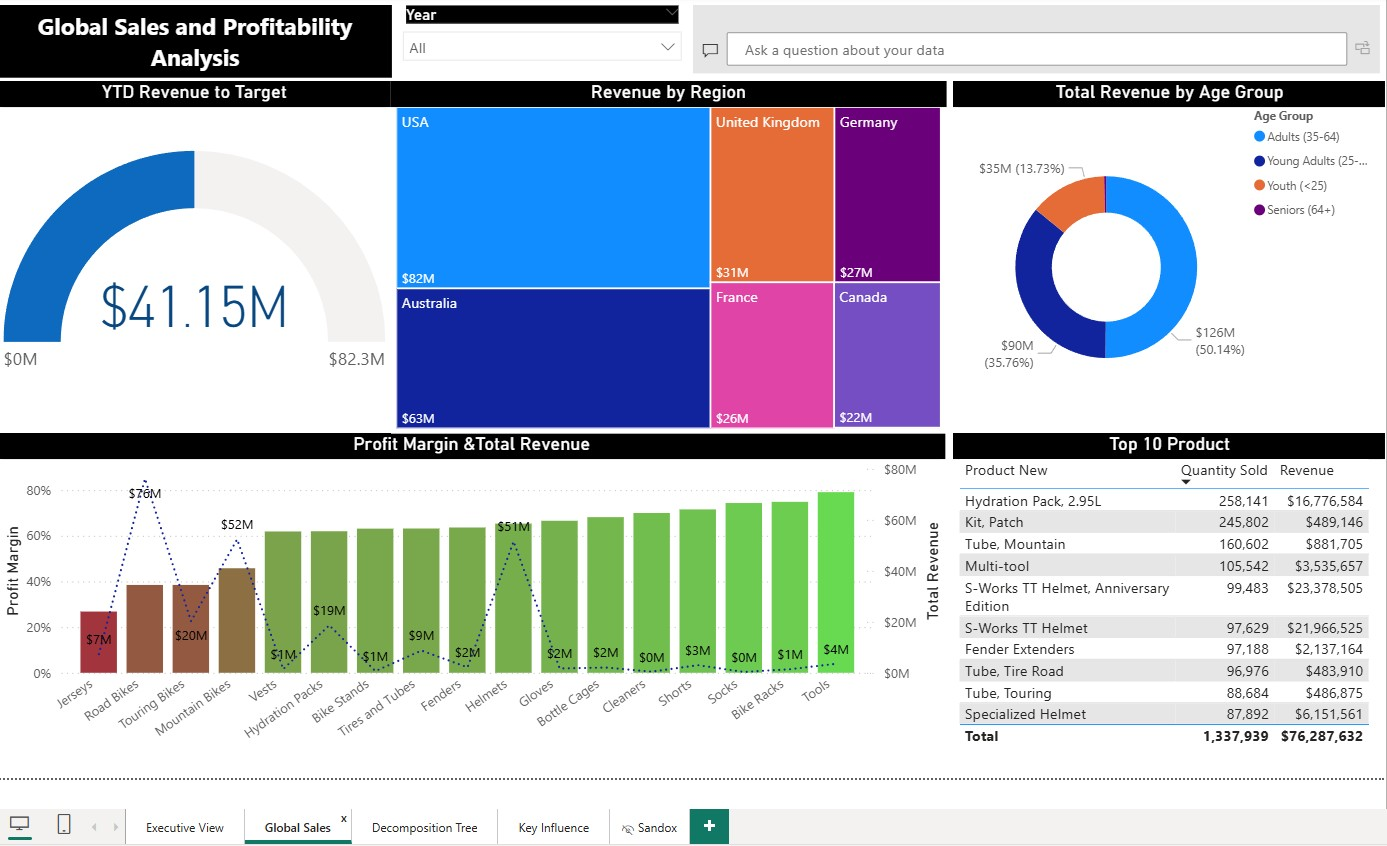

What the dashboard file says about the page in this screenshot:
{"tool":"powerbi","page":{"name":"Global Sales","canvas":[1280,720],"ordinal":1},"visuals":[{"type":"lineClusteredColumnComboChart","title":"Profit Margin &Total Revenue","fields":{"Category":["Maven Cycles Product Subcategories.Sub Category"],"Y":["Maven Cycles Sales.Profit Margin"],"Y2":["Maven Cycles Sales.Total Revenue"]},"box":[0,401.5,873.4,319],"z":1000},{"type":"gauge","title":"YTD Revenue to Target","fields":{"TargetValue":["Maven Cycles Sales.Total Revenue PY"],"Y":["Maven Cycles Sales.Total Revenue YTD"]},"box":[0,77.4,362,316.7],"z":2000},{"type":"tableEx","title":"Top 10 Product","fields":{"Values":["Top 10 Products.Product New","Sum(Top 10 Products.Quantity Sold)","Sum(Top 10 Products.Revenue)"]},"box":[880.5,401.5,399.5,319],"z":3000},{"type":"donutChart","fields":{"Category":["Maven Cycles Age Group.Age Group"],"Y":["Maven Cycles Sales.Total Revenue"]},"box":[880.5,77.5,399.5,324.1],"z":4000},{"type":"treemap","title":"Revenue by Region","fields":{"Values":["Maven Cycles Sales.Total Revenue"],"Group":["Maven Cycles Regions.Region (groups)"]},"box":[361.8,77.5,511.6,325.1],"z":5000},{"type":"slicer","fields":{"Values":["Maven Cycles Calendar.Year"]},"box":[362.8,3.1,277.2,70.3],"z":6000},{"type":"qnaVisual","box":[640,7.1,632.9,63.2],"z":7000},{"type":"textbox","box":[0,7.1,363.2,66.7],"z":7500}]}

Visuals, with their boxes on the page's 1280x720 design canvas (x1, y1, x2, y2). These are canvas units, not pixel positions in the 1387x846 screenshot, which may show the page scaled, cropped or inside an application window:
"Profit Margin &Total Revenue" lineClusteredColumnComboChart: (0,402,873,720)
"YTD Revenue to Target" gauge: (0,77,362,394)
"Top 10 Product" tableEx: (880,402,1280,720)
donutChart - Maven Cycles Age Group.Age Group x Maven Cycles Sales.Total Revenue: (880,78,1280,402)
"Revenue by Region" treemap: (362,78,873,403)
slicer - Maven Cycles Calendar.Year: (363,3,640,73)
qnaVisual: (640,7,1273,70)
textbox: (0,7,363,74)
